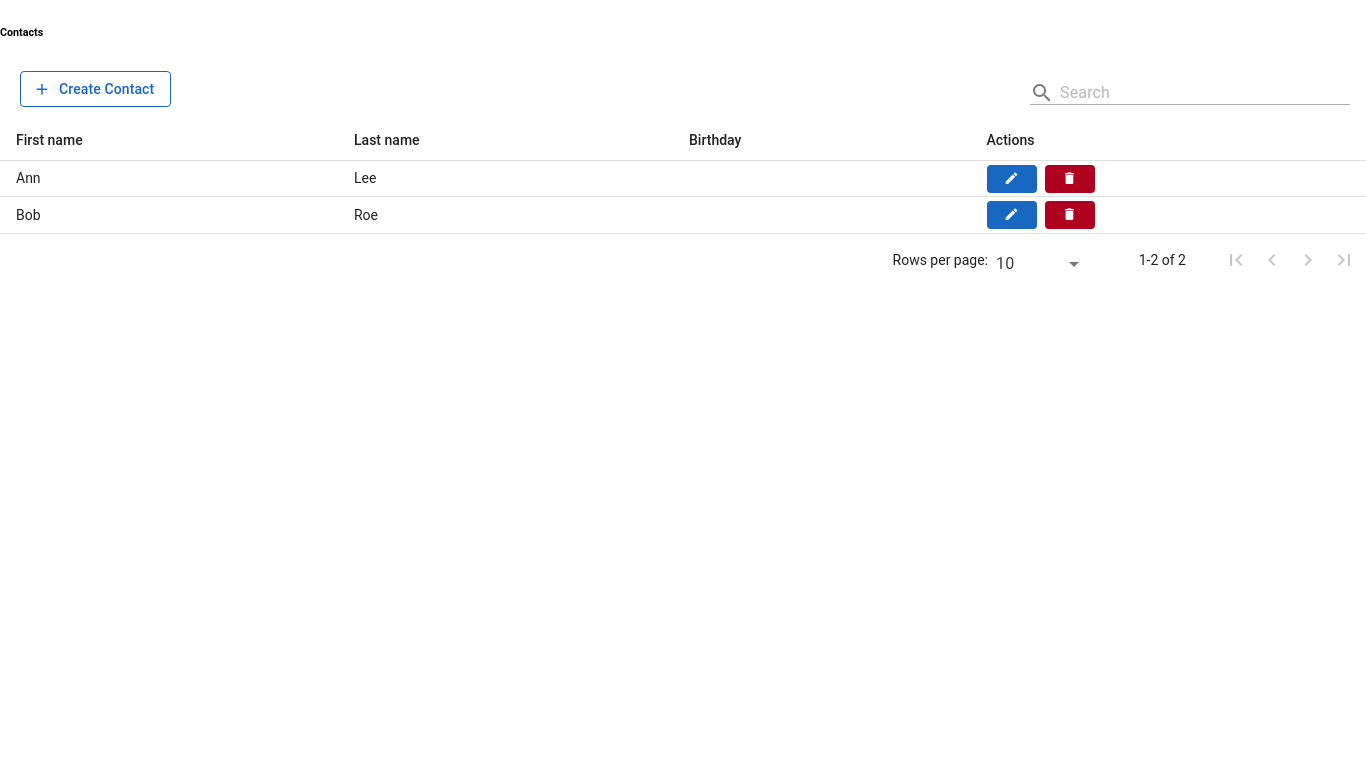
Test: ContactsPage › deleting › asks for confirmation before deleting
Click the button named "Delete contact" in the row of "Bob".
click(1070, 215)  # box [1044, 201, 1094, 229]
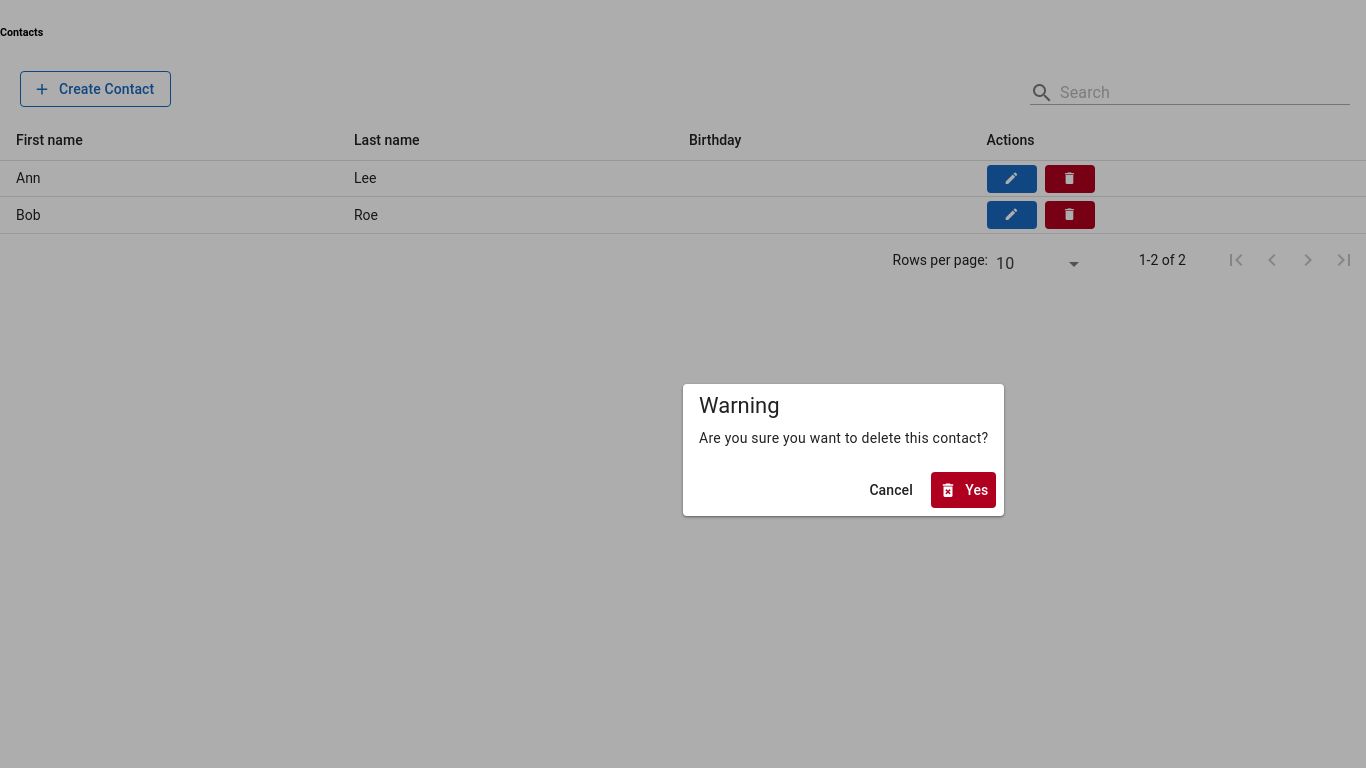
Result: the text "Are you sure you want to delete this contact?" is shown at [699, 430, 988, 446]
